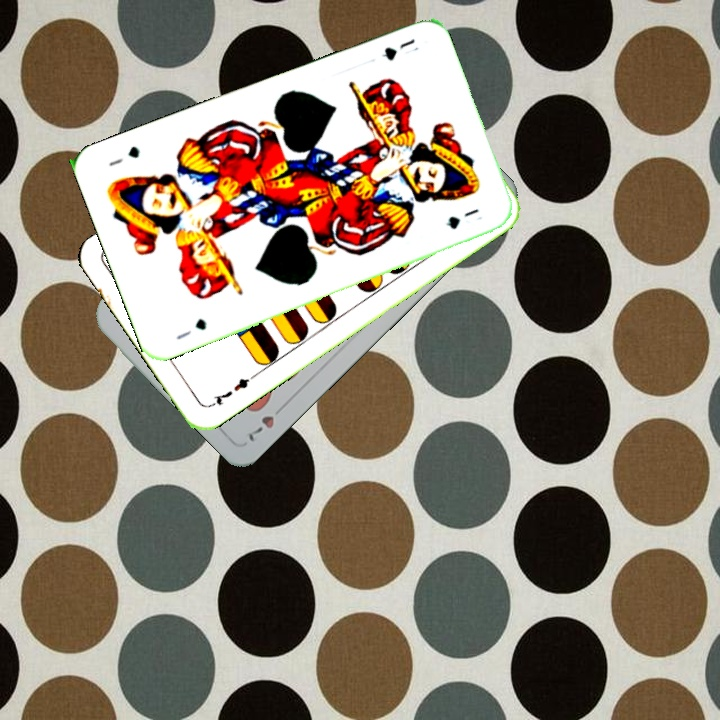E7: (205, 371, 257, 410)
GU: (378, 34, 422, 63), (172, 314, 209, 343)
H7: (244, 399, 289, 444)
